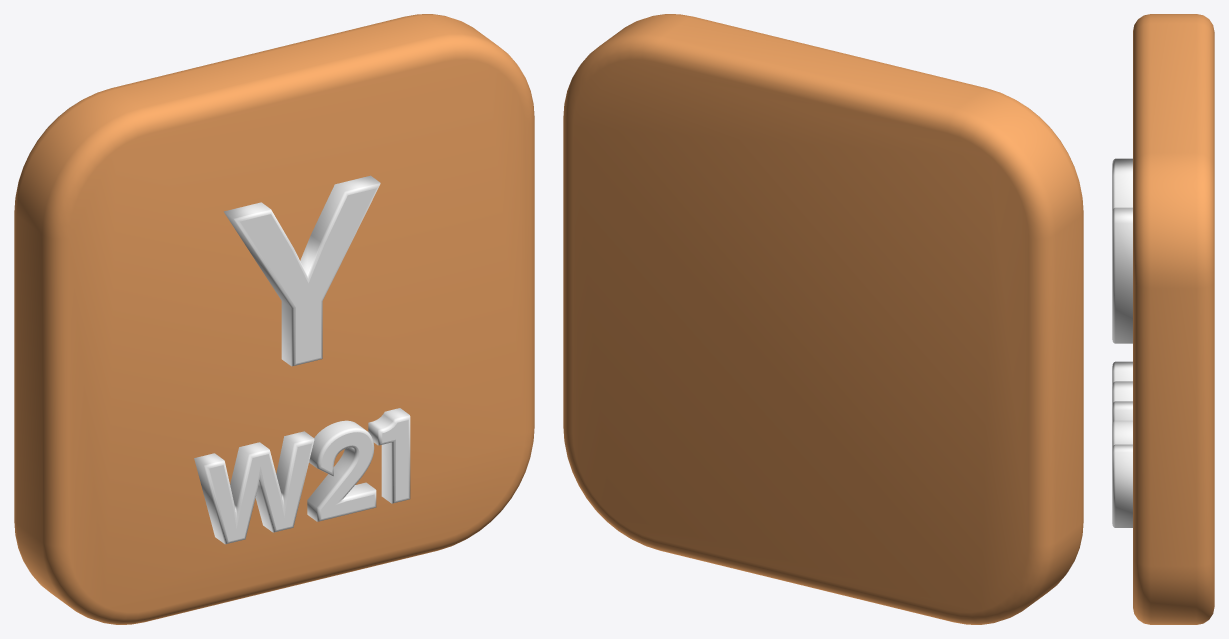
The picture shows the model from 3 angles, left to right: view 1: azimuth 30°, elevation 25°; view 2: azimuth 150°, elevation 25°; view 3: azimuth 270°, elevation 25°; orthographic projection. The views are drawn at different scales.
Visible parts, largest first — view 1: yc_W21; view 2: yc_W21; view 3: yc_W21.
Part boxes in pixels (bbox=[...]): yc_W21: bbox=[14, 14, 534, 624]; yc_W21: bbox=[563, 14, 1083, 624]; yc_W21: bbox=[1112, 14, 1214, 624].
Bounding box in the file's own units: 1 × 1 × 0.2.
